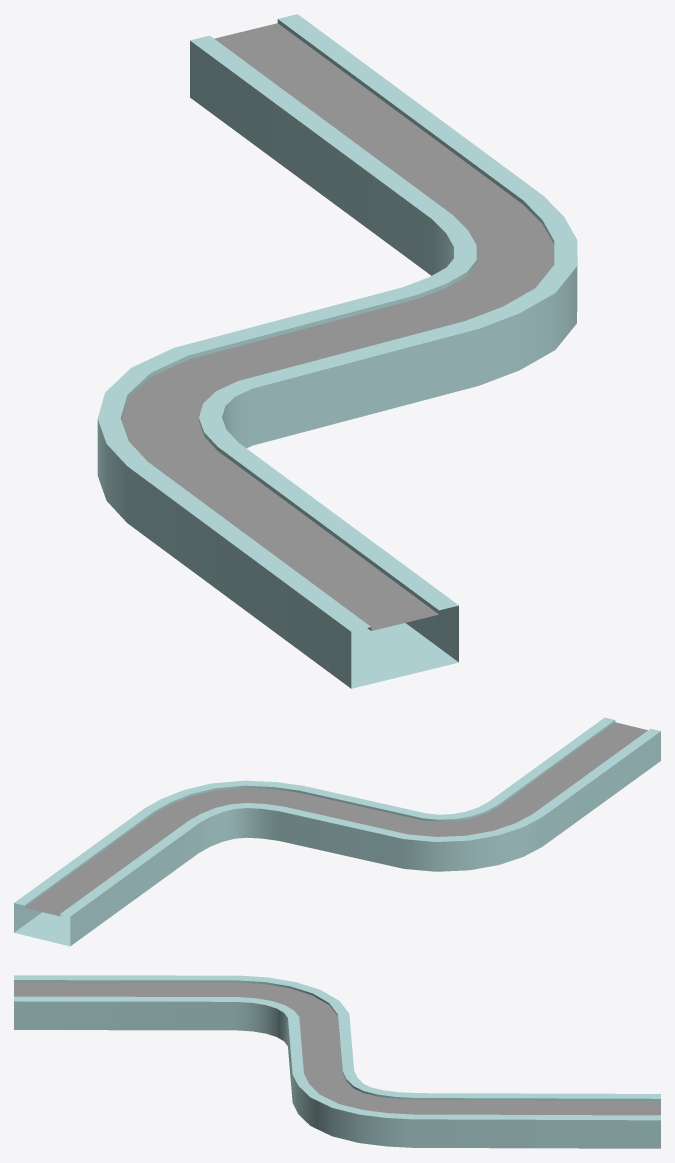
File: curve_right#1.fbx
3 renders of one model, top to bottom at view 1: azimuth 30°, elevation 25°; view 2: azimuth 150°, elevation 25°; view 3: azimuth 270°, elevation 25°, orthographic. The views are drawn at different scales.
Parts seen in each view (by area): view 1: curve_right#1; view 2: curve_right#1; view 3: curve_right#1.
Boxes of the visible parts, box(x1,y1,x2,y2) form: curve_right#1: box(97, 14, 577, 688); curve_right#1: box(14, 717, 660, 946); curve_right#1: box(14, 975, 660, 1148).
Bounding box in the file's own units: 1119 × 104 × 2113.
